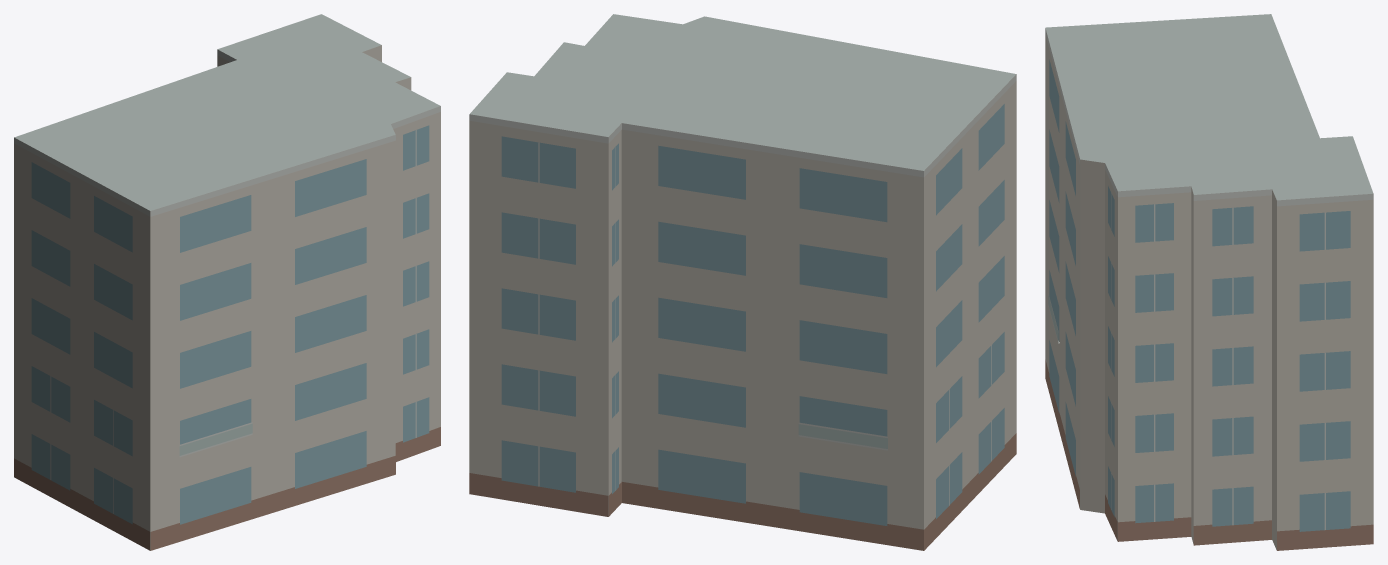
Rendered from survey-upis-32629560.glb.
3 views of the same model, side by side, from view 1: azimuth 30°, elevation 25°; view 2: azimuth 150°, elevation 25°; view 3: azimuth 270°, elevation 25° (orthographic). The views are drawn at different scales.
Visible parts, largest first — view 1: survey-upis-32629560.tmp; view 2: survey-upis-32629560.tmp; view 3: survey-upis-32629560.tmp.
Boxes of the visible parts, x1,y1,x2,y2 form: survey-upis-32629560.tmp: (14,14,440,550); survey-upis-32629560.tmp: (469,14,1016,550); survey-upis-32629560.tmp: (1045,14,1373,550).
Size of the model in its own units: 16.21 by 14.2 by 12.06.
